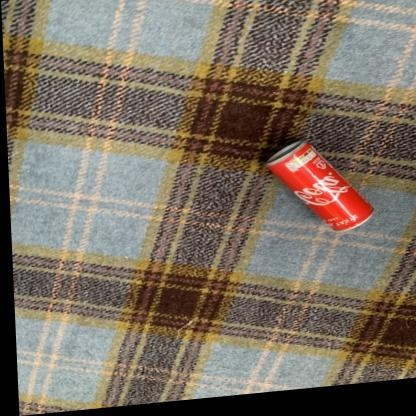trash: (267, 141, 372, 230)
